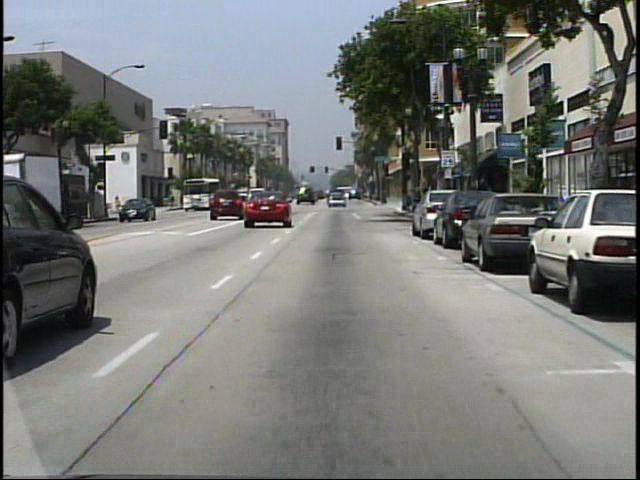person: (114, 196, 123, 217)
